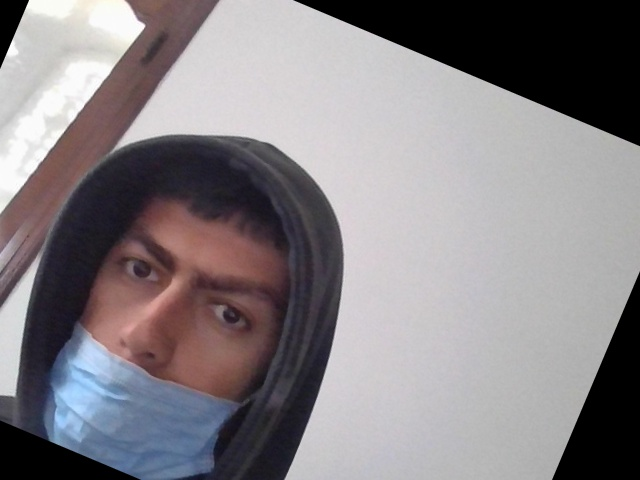mask_weared_incorrect: (42, 199, 293, 480)
